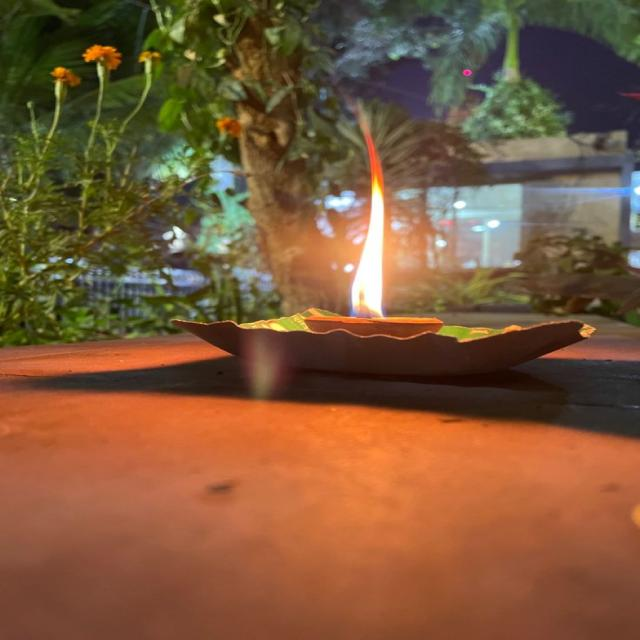fire: (349, 131, 387, 318)
